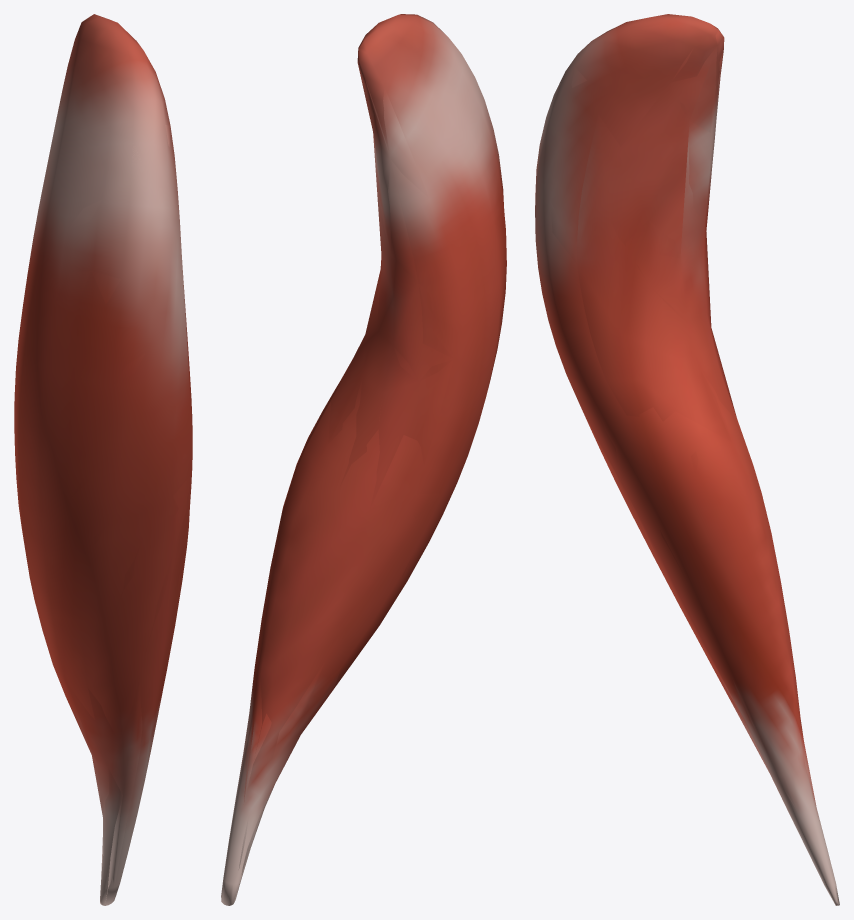
The model's file is R Extensor Carpi Radialis.fbx.
The picture shows the model from 3 angles, left to right: view 1: azimuth 30°, elevation 25°; view 2: azimuth 150°, elevation 25°; view 3: azimuth 270°, elevation 25°; orthographic projection. The views are drawn at different scales.
Parts seen in each view (by area): view 1: R Extensor Carpi Radialis, R Extensor Carpi Radialis low; view 2: R Extensor Carpi Radialis, R Extensor Carpi Radialis low; view 3: R Extensor Carpi Radialis, R Extensor Carpi Radialis low.
Boxes of the visible parts, <box> form: R Extensor Carpi Radialis: <box>14,14,192,905</box>; R Extensor Carpi Radialis low: <box>36,20,190,901</box>; R Extensor Carpi Radialis: <box>221,14,506,905</box>; R Extensor Carpi Radialis low: <box>238,14,501,874</box>; R Extensor Carpi Radialis: <box>535,14,839,905</box>; R Extensor Carpi Radialis low: <box>550,16,816,811</box>.
Size of the model in its own units: 3.19 by 14.9 by 4.84.
